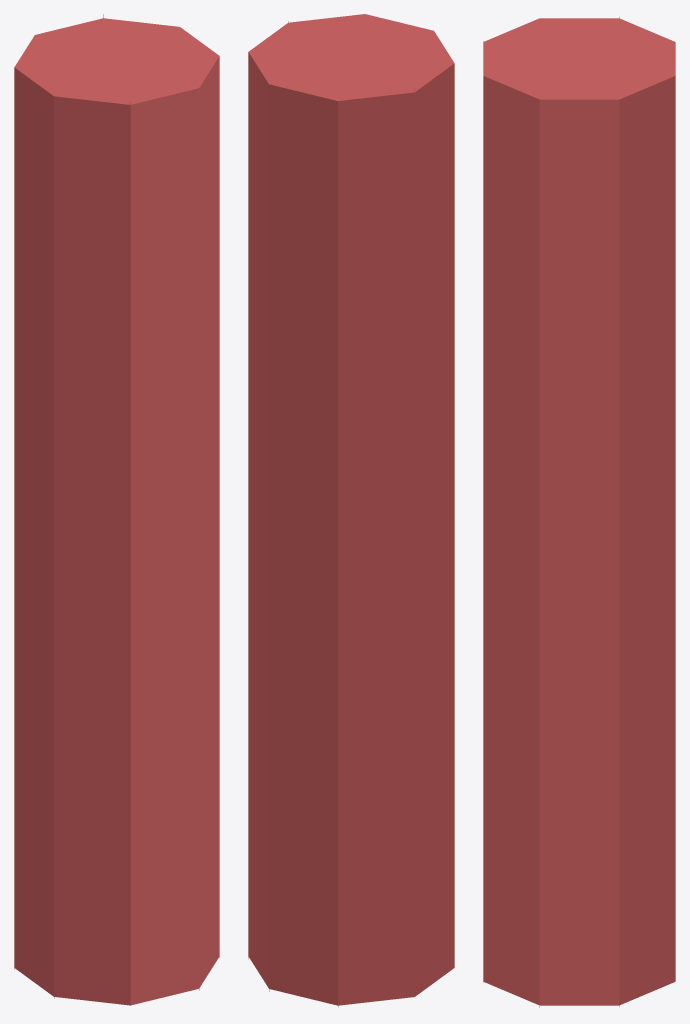
File: emm_log.glb
The picture shows the model from 3 angles, left to right: view 1: azimuth 30°, elevation 25°; view 2: azimuth 150°, elevation 25°; view 3: azimuth 270°, elevation 25°; orthographic projection.
Parts seen in each view (by area): view 1: emm_log_col; view 2: emm_log_col; view 3: emm_log_col.
Part boxes in pixels (x1=…): emm_log_col: x1=14, y1=14, x2=219, y2=1005; emm_log_col: x1=248, y1=14, x2=454, y2=1007; emm_log_col: x1=483, y1=17, x2=675, y2=1007.
Size of the model in its own units: 0.9243 by 4.85 by 0.9243.
